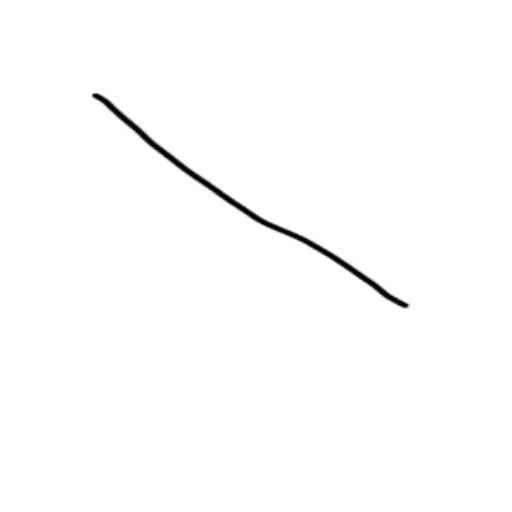line: (85, 83, 417, 315)
